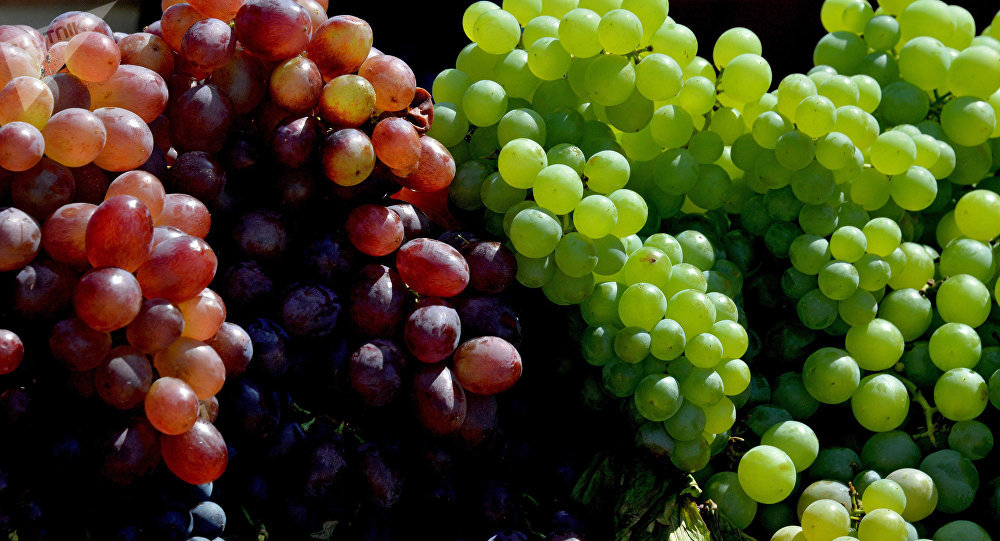Green grapes: (440, 4, 747, 449), (509, 6, 932, 240), (775, 235, 946, 445)
Red Grapes: (176, 5, 518, 419), (7, 12, 248, 484)
